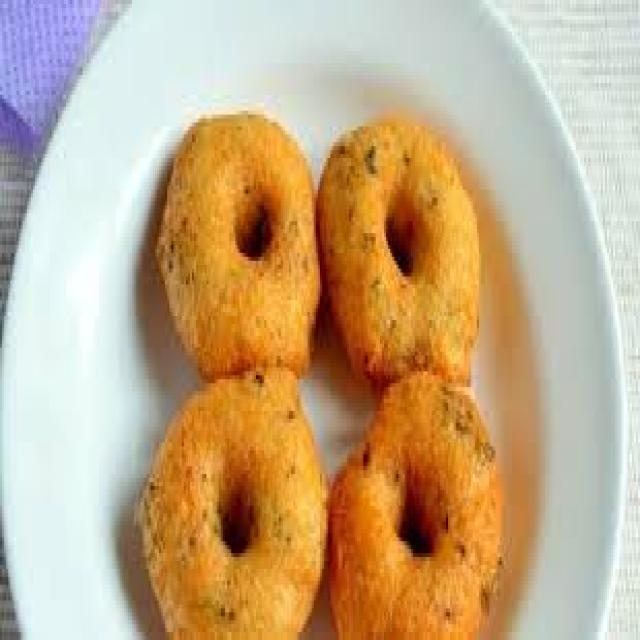MEDU VADA: (321, 111, 489, 396), (138, 387, 322, 636), (324, 384, 503, 636), (164, 103, 320, 378)
